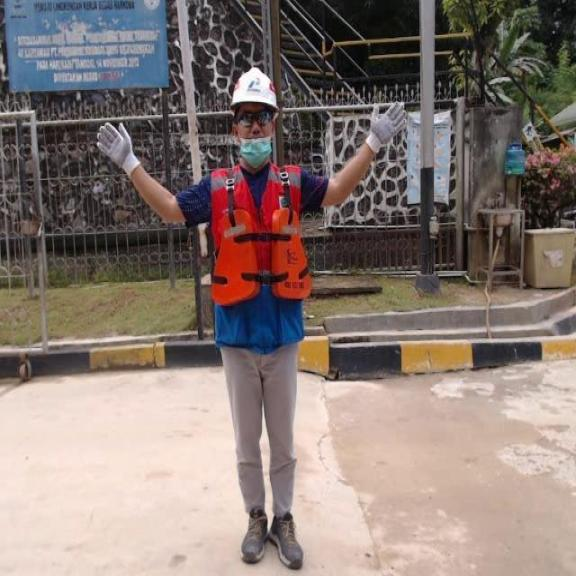safety_vest: (210, 214, 312, 304)
